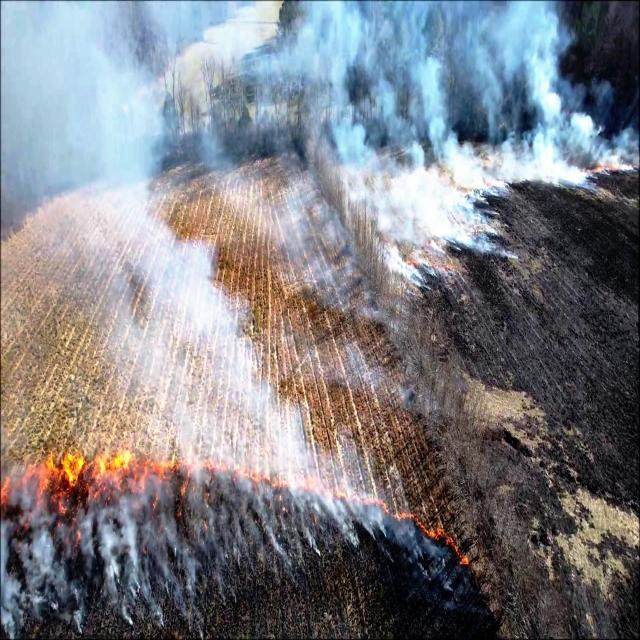Fire: (0, 441, 473, 565)
Smoke: (3, 2, 410, 474), (381, 0, 640, 226), (0, 524, 333, 608)
